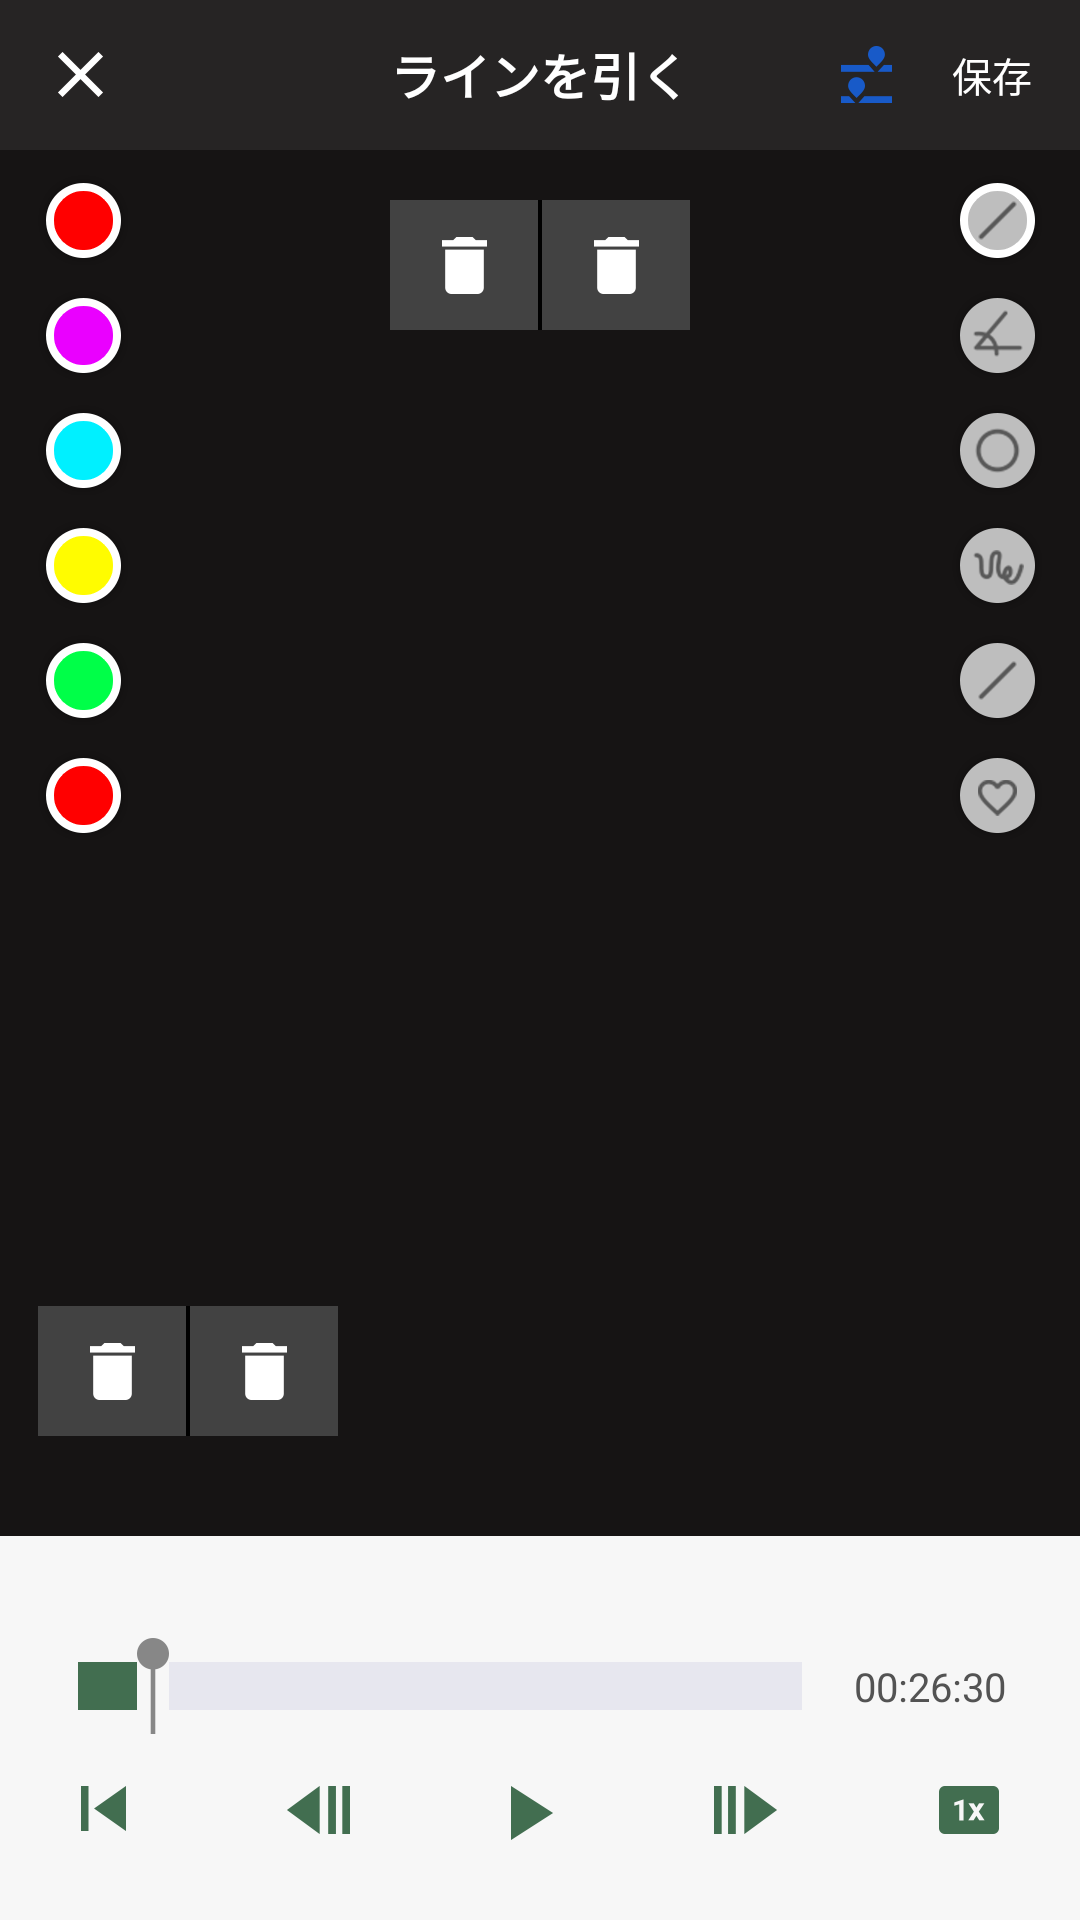

Screen size 1080*1920. Icon name, then its box in pixels as (x1, y1, x2, y2):
close wh: (58, 52, 103, 97)
framebk gr: (287, 1786, 350, 1834)
framego gr: (714, 1786, 777, 1834)
play gr: (511, 1786, 553, 1840)
